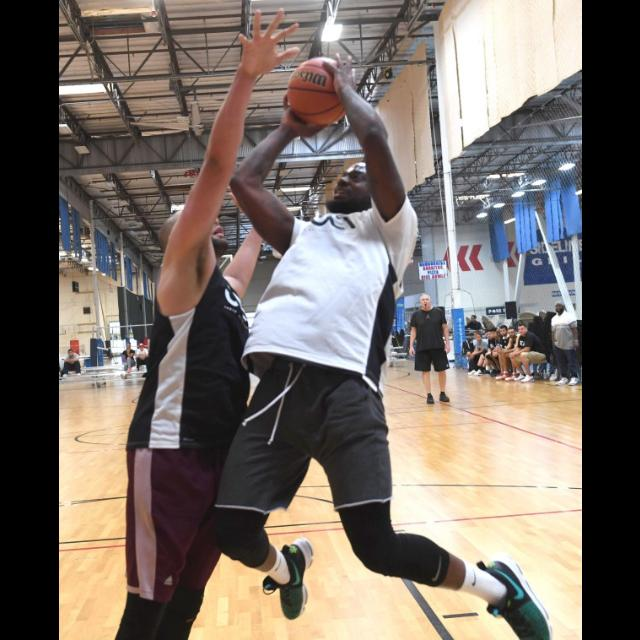head: (160, 203, 230, 260), (332, 160, 386, 212), (419, 294, 431, 308), (516, 324, 528, 336), (555, 301, 565, 313), (507, 328, 517, 340), (491, 328, 499, 340), (485, 331, 493, 342), (500, 326, 508, 336), (474, 333, 482, 342), (476, 332, 482, 342), (68, 350, 74, 358), (126, 343, 132, 351), (138, 344, 144, 352), (469, 316, 476, 322)
person: (408, 293, 452, 405), (549, 300, 579, 388), (508, 322, 548, 383), (492, 326, 524, 384), (468, 328, 502, 378), (468, 330, 492, 376), (492, 324, 512, 378), (485, 327, 505, 379), (466, 332, 488, 376), (462, 315, 486, 353), (118, 342, 138, 381), (60, 349, 82, 379), (133, 340, 151, 374)
